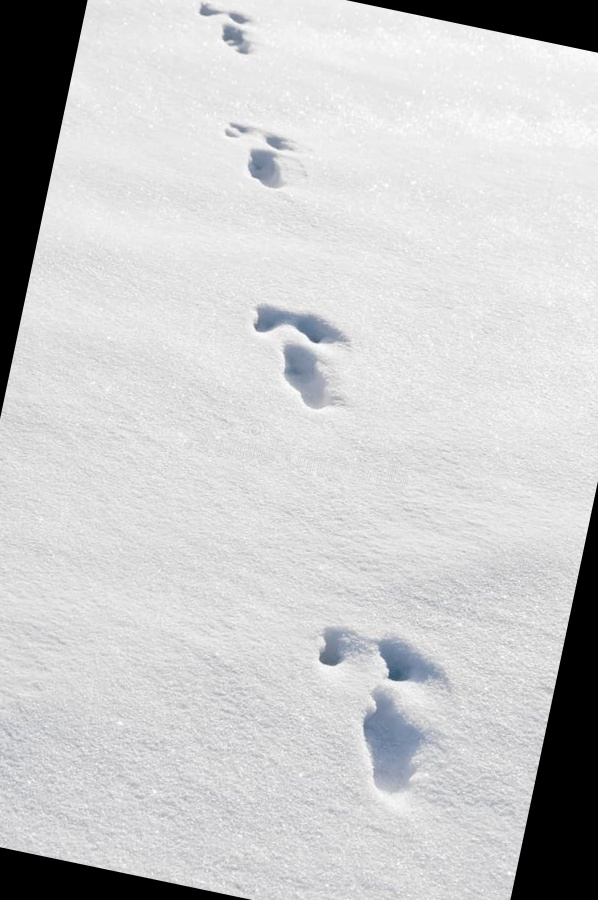rabbit: (255, 595, 496, 828), (207, 266, 386, 441)
